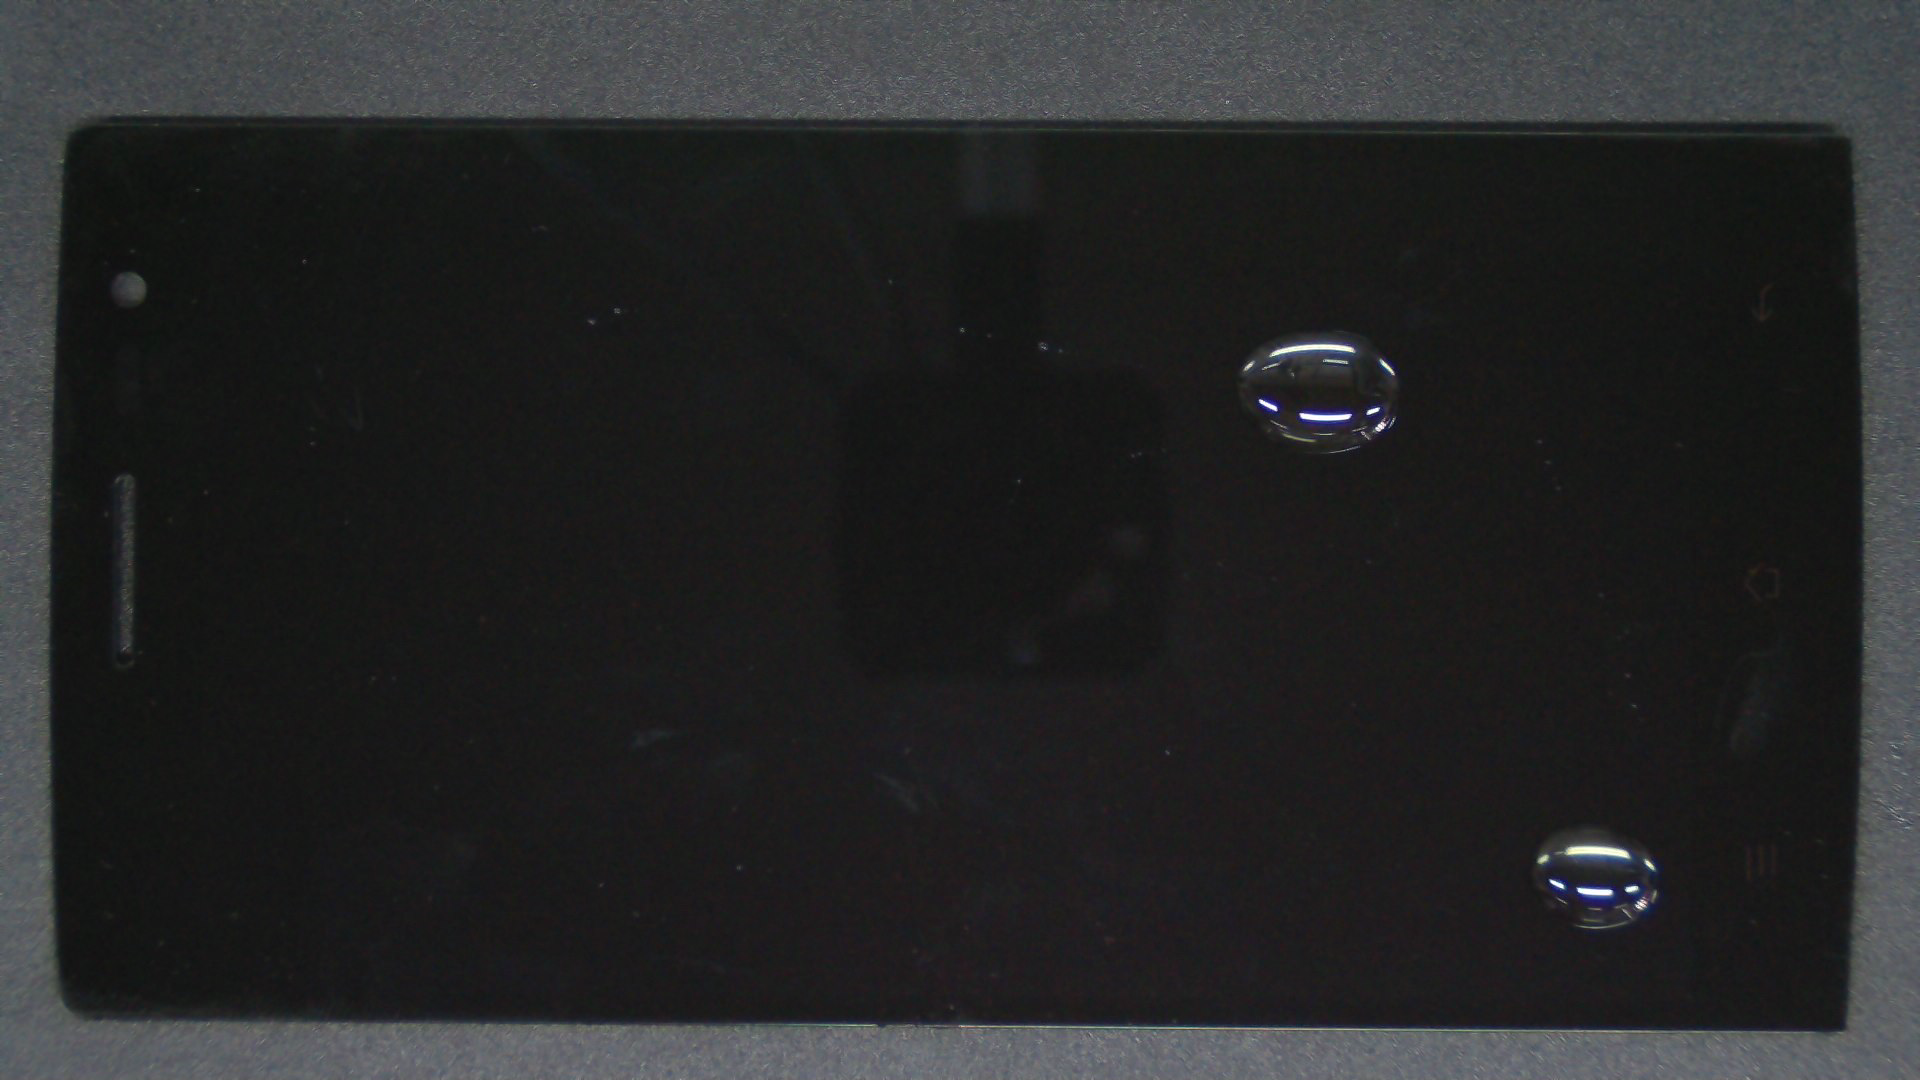defect: (1234, 330, 1400, 455), (1530, 828, 1664, 930)
